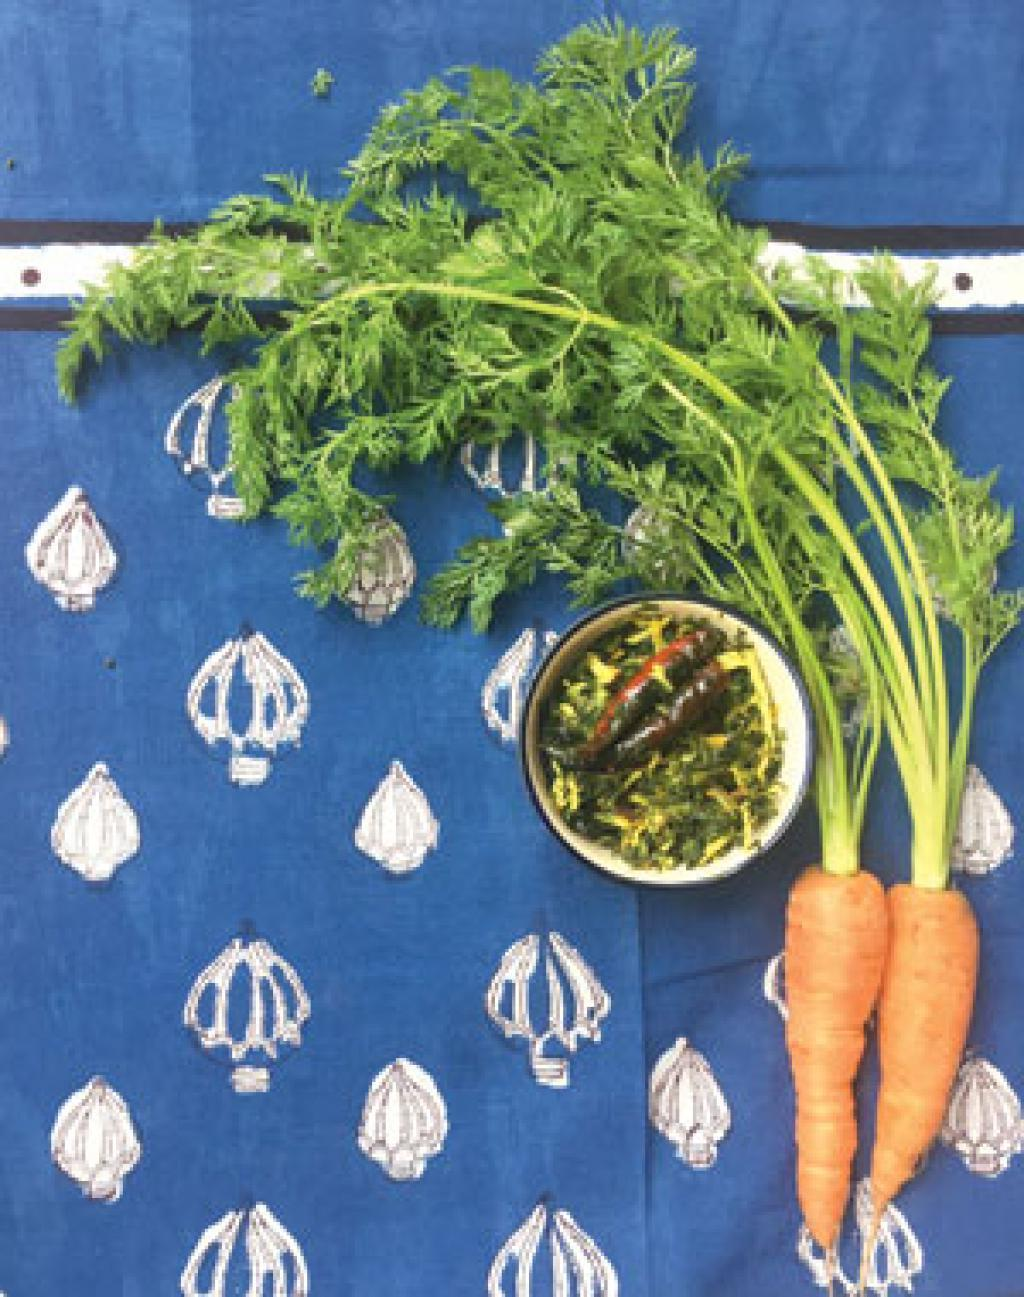carrot: (794, 866, 984, 1250)
